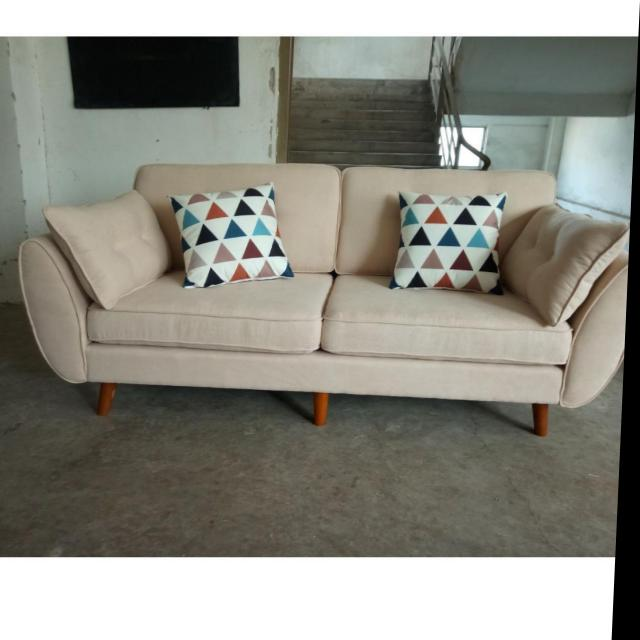Sofa: (16, 162, 634, 432)
